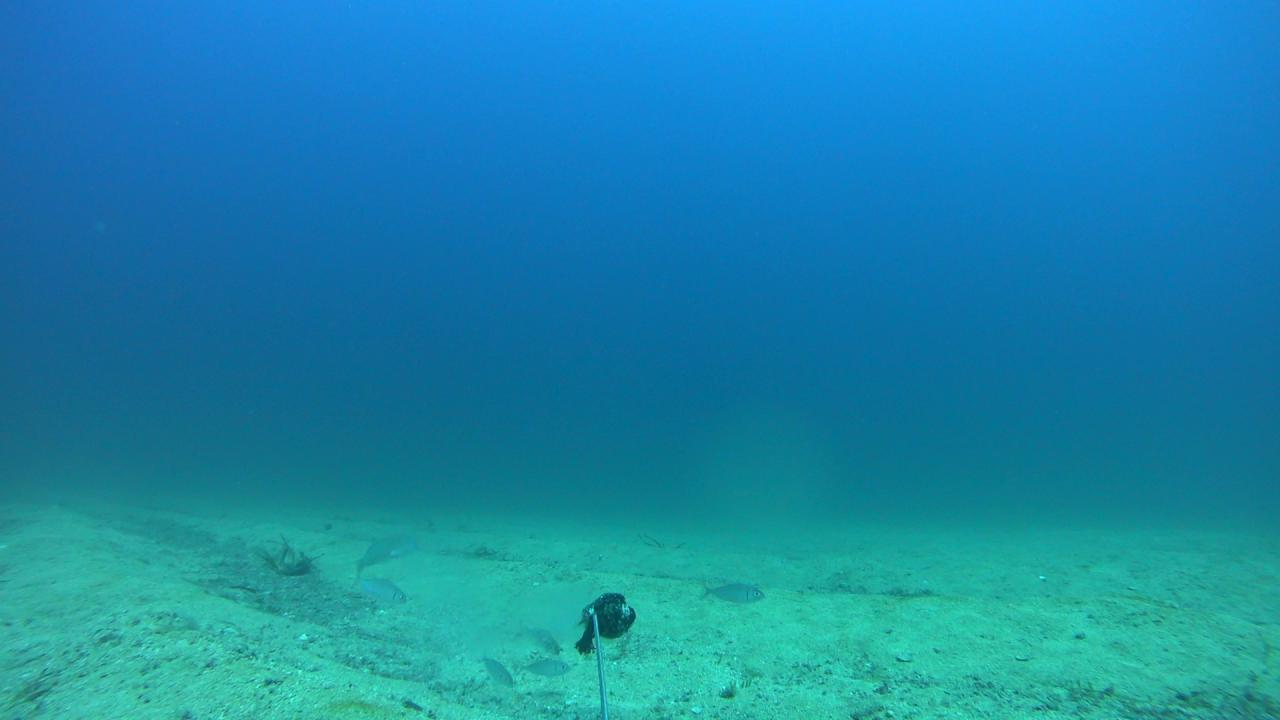pagellus: (346, 571, 406, 604), (697, 580, 765, 605), (515, 657, 571, 679)
